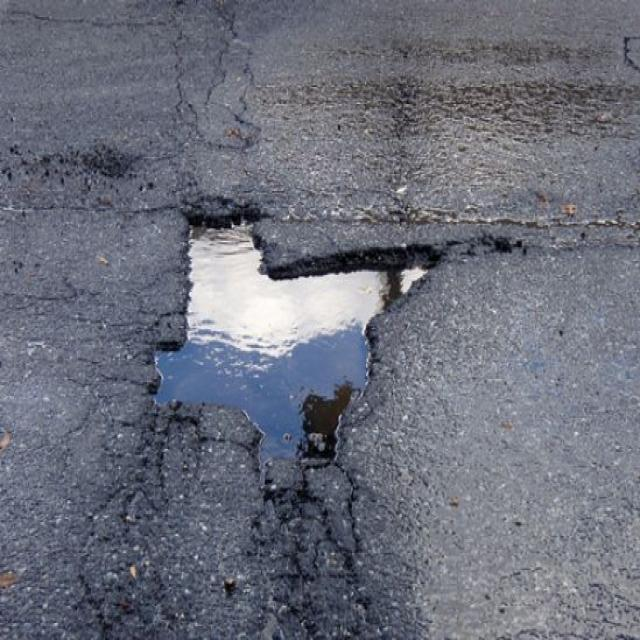pothole: (138, 200, 432, 480)
